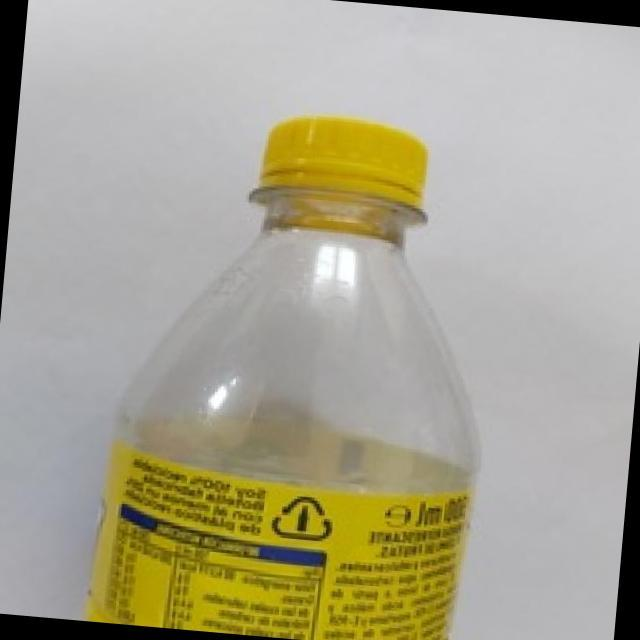good: (81, 64, 520, 640)
